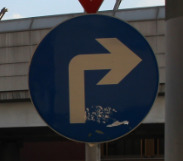right_turn: (27, 13, 159, 144)
